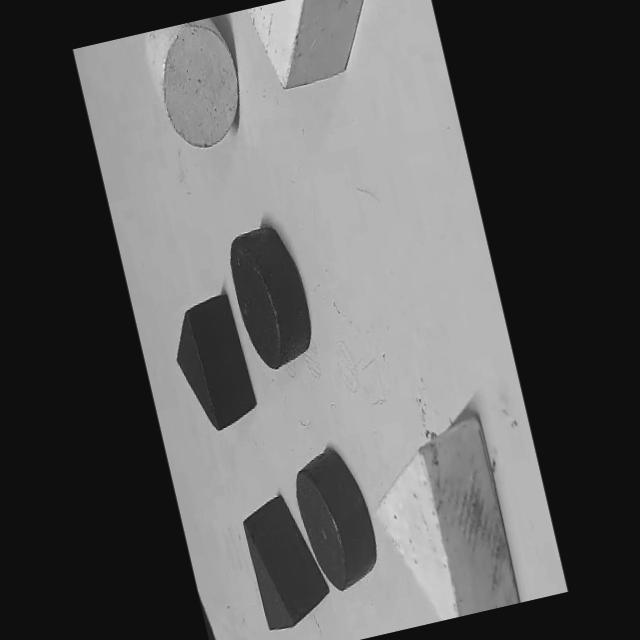bcircle: (218, 215, 322, 376)
btriangle: (162, 288, 262, 438)
rcircle: (285, 440, 386, 598)
rtriangle: (236, 486, 335, 634)
ycircle: (141, 16, 253, 157)
ycube: (255, 0, 389, 93)
ytriangle: (358, 414, 522, 629)
